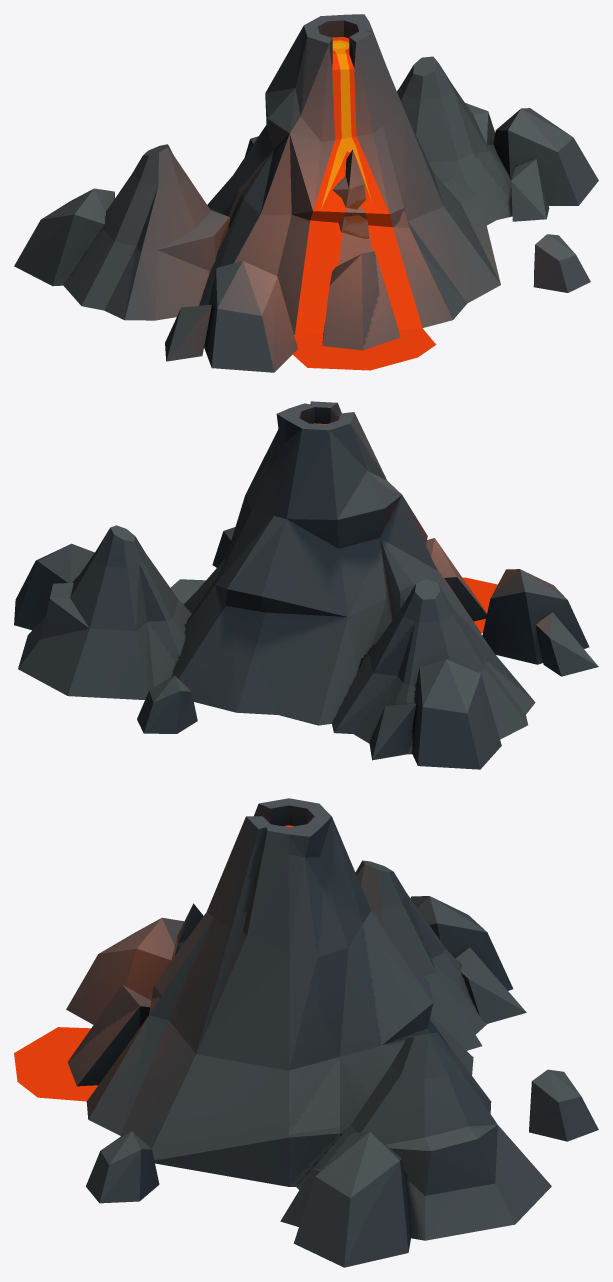
The model's file is volcano.glb.
The picture shows the model from 3 angles, top to bottom: view 1: azimuth 30°, elevation 25°; view 2: azimuth 150°, elevation 25°; view 3: azimuth 270°, elevation 25°; orthographic projection. The views are drawn at different scales.
Visible parts, largest first — view 1: volcano; view 2: volcano; view 3: volcano.
Part boxes in pixels (x1=…): volcano: x1=14, y1=14, x2=598, y2=372; volcano: x1=14, y1=401, x2=598, y2=769; volcano: x1=14, y1=798, x2=598, y2=1267.
Size of the model in its own units: 12.03 by 5.18 by 9.64.
Materials: 1 (1 with a texture image).
